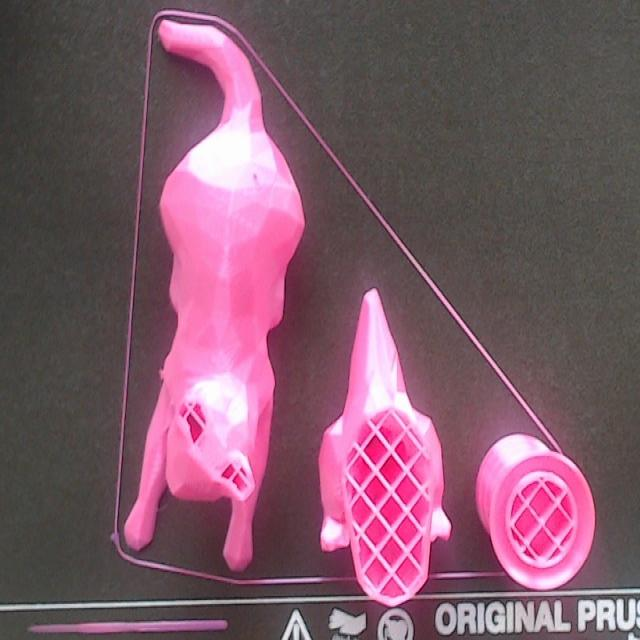mistake: (156, 493, 165, 507), (159, 368, 162, 380)
